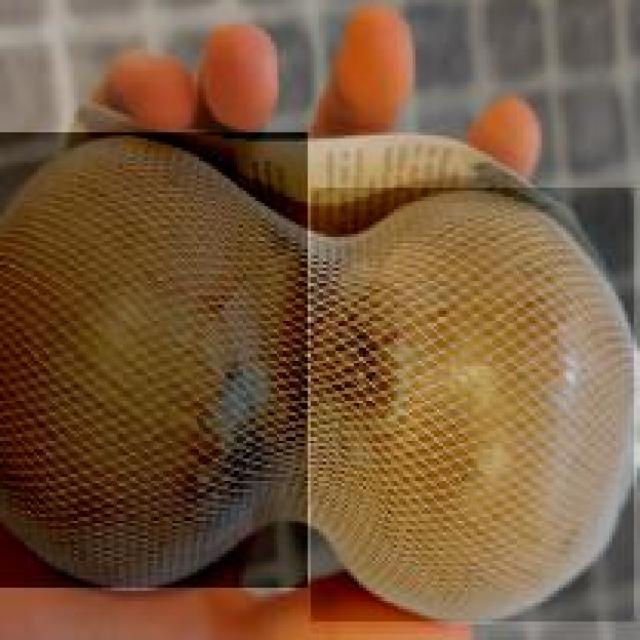onion: (306, 187, 634, 624), (0, 132, 308, 591)
